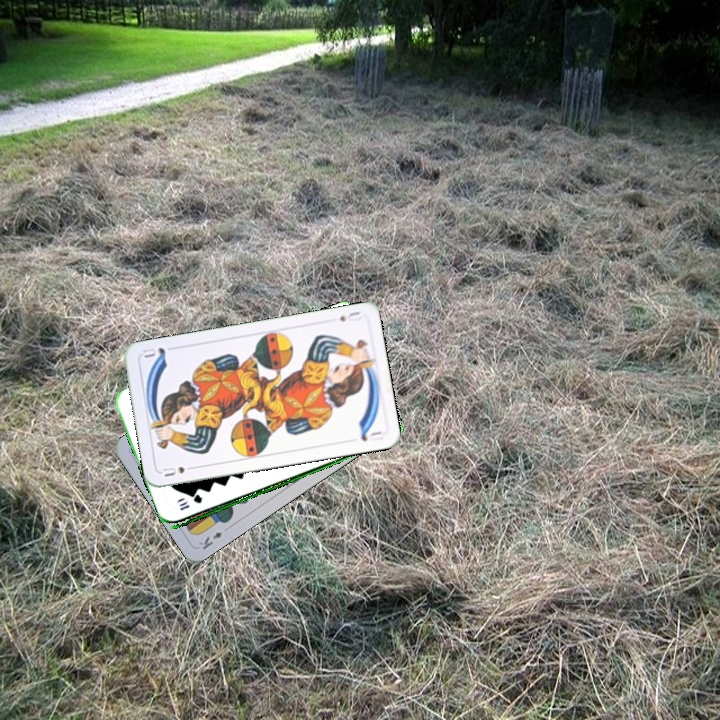EK: (194, 527, 225, 552)
G10: (175, 492, 205, 513)
SU: (159, 460, 198, 479), (335, 307, 364, 324)
